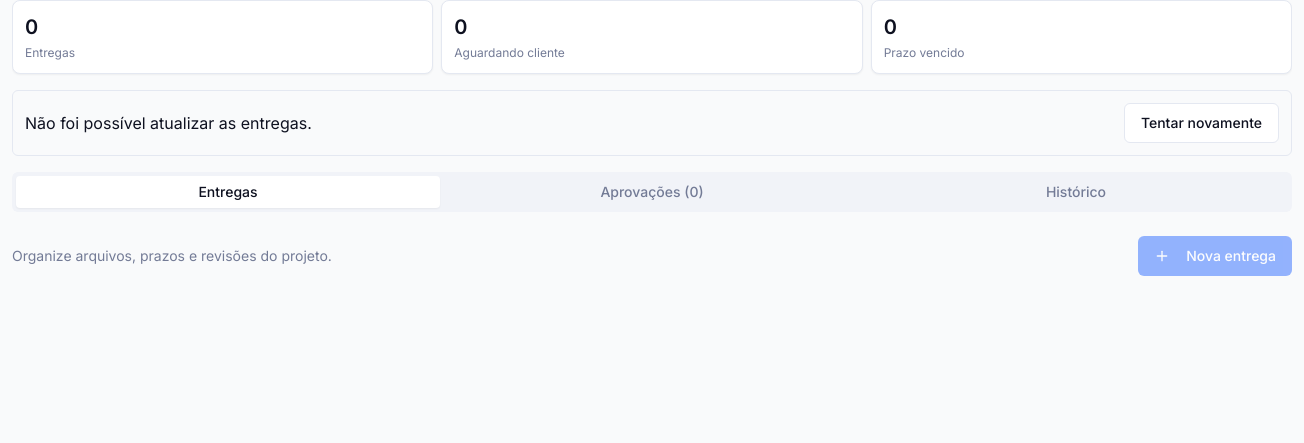
Test case: ProjectDeliveryManager › offers retry when the delivery workspace could not load
The image size is (1304, 443).
Check: the message "Não foi possível atualizar as entregas. Tentar novamente" is shown, box left=12, top=90, right=1292, bottom=156
Click the button "Tentar novamente" at (1201, 123), box left=1124, top=103, right=1279, bottom=143
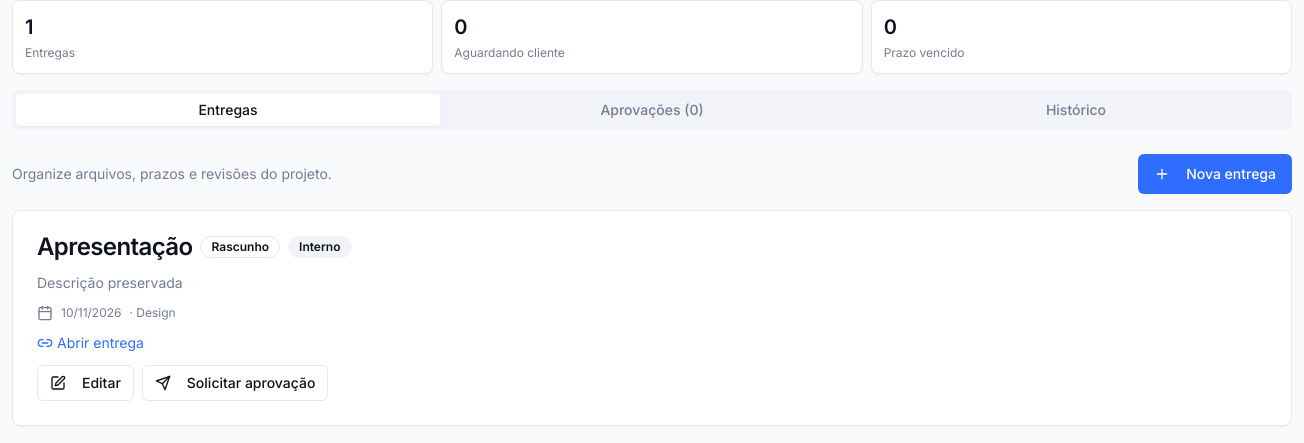
Check: the text "Apresentação" is shown, box left=37, top=235, right=192, bottom=259
